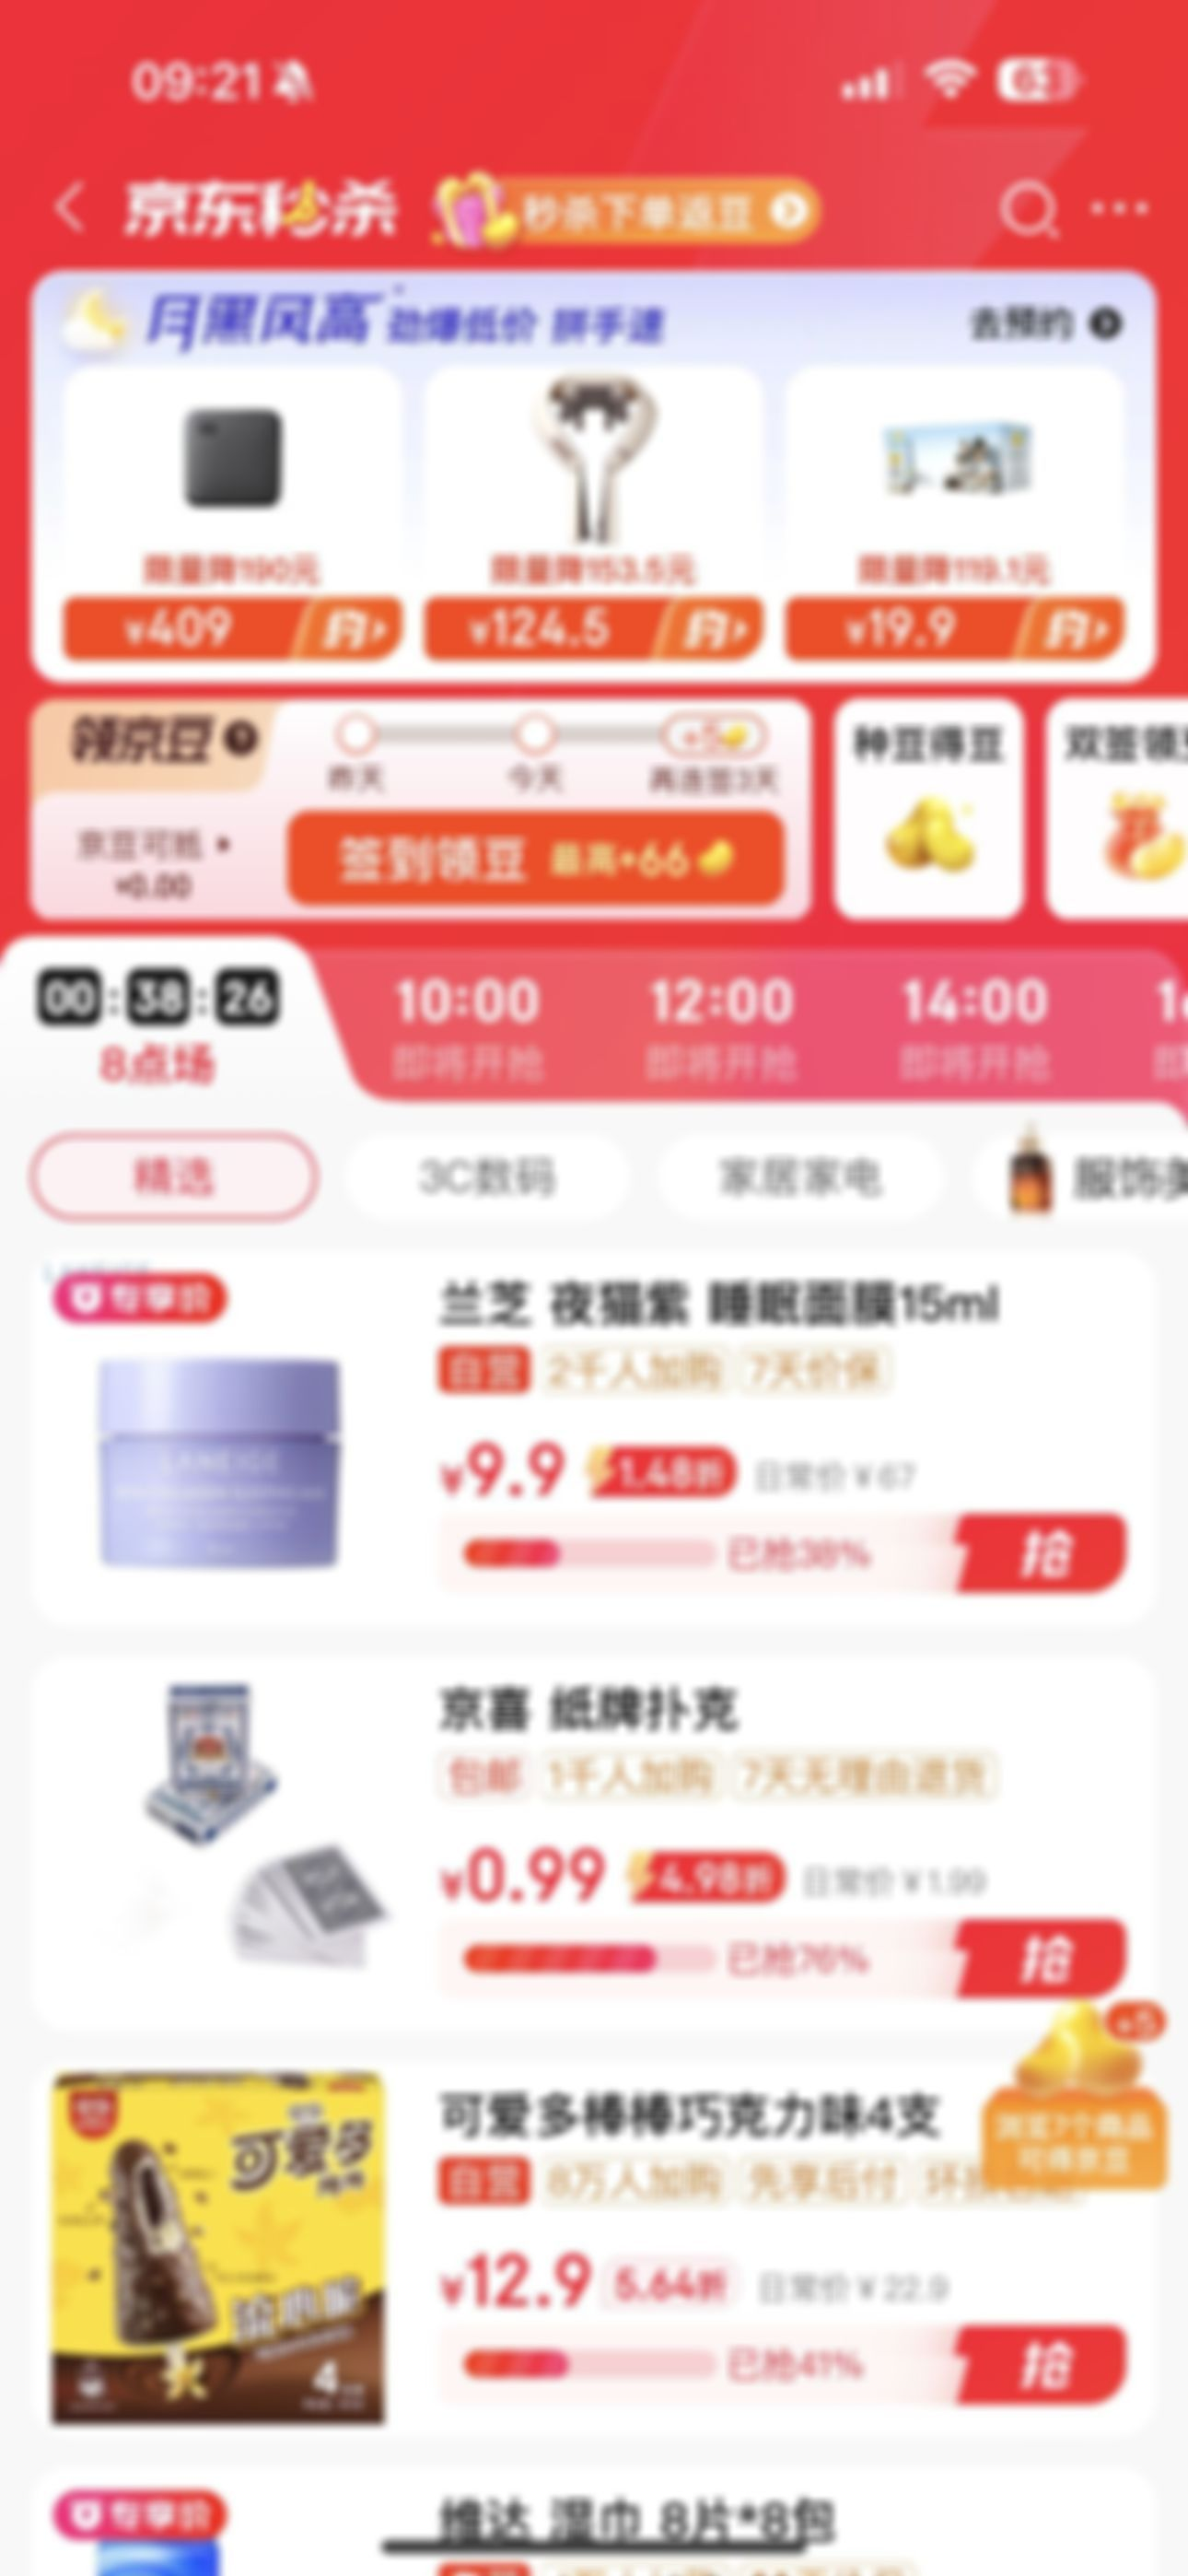item: (7, 2052, 1185, 2446), (3, 1651, 1183, 2042), (10, 1253, 1185, 1636)
op_bar: (5, 148, 1185, 256)
seckill: (10, 271, 1185, 931)
